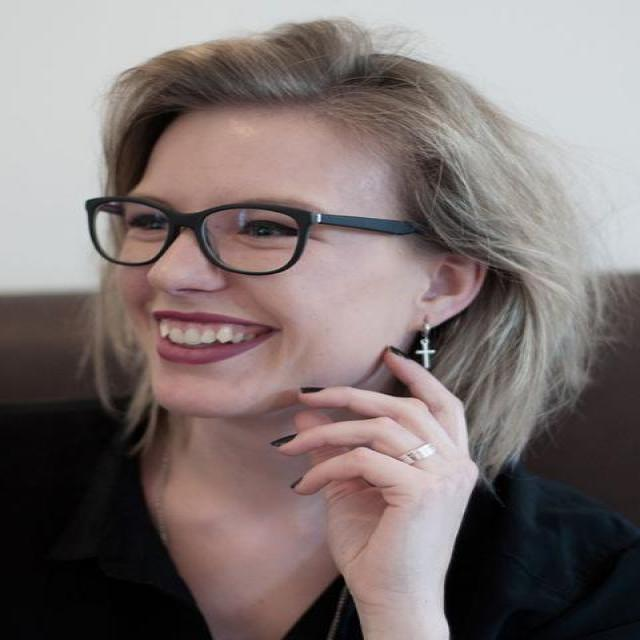glasses: (84, 195, 423, 277)
